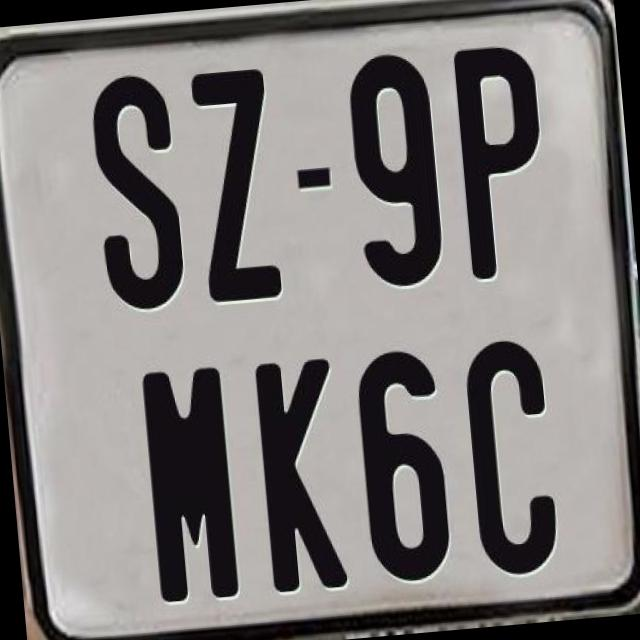6: (354, 344, 454, 584)
9: (345, 47, 453, 295)
C: (459, 334, 566, 584)
K: (252, 357, 352, 594)
M: (140, 366, 240, 610)
P: (452, 43, 554, 281)
S: (86, 68, 185, 312)
Z: (190, 68, 285, 308)
